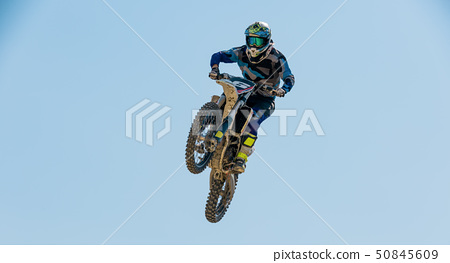helmet: (242, 19, 274, 57)
